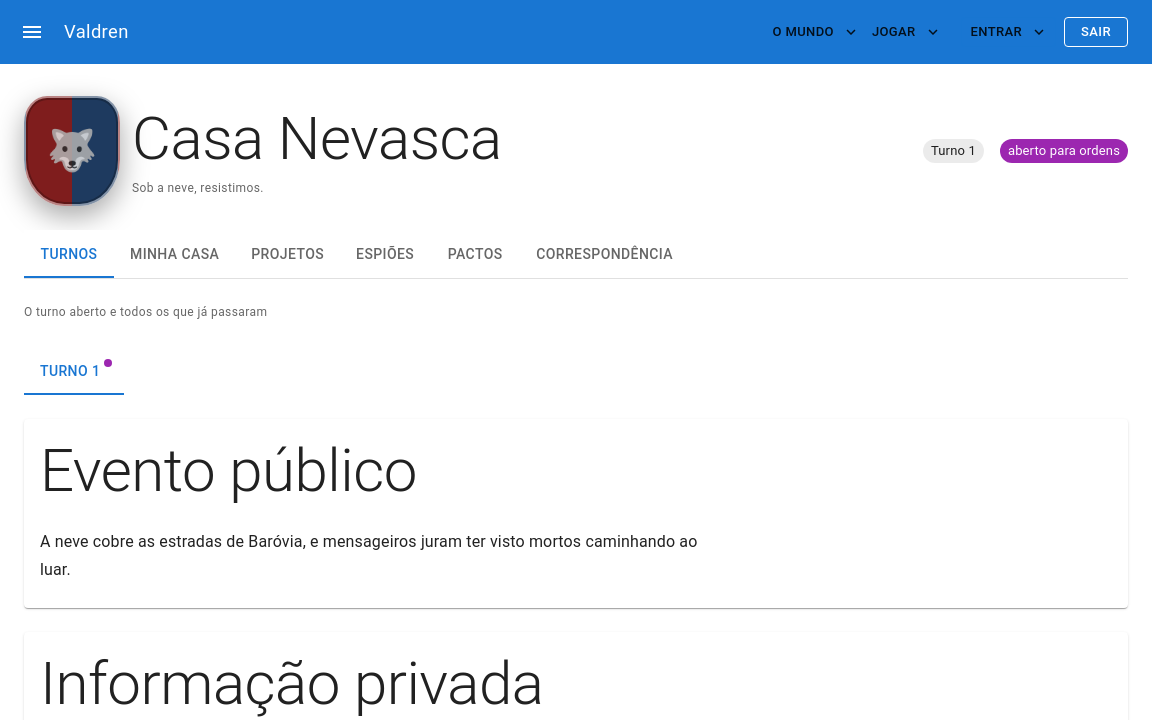
Test: GamePage › desconta da Energia livre o que a Casa já distribuiu
Click the tab "Minha Casa" at (175, 254), box [114,230,235,278]
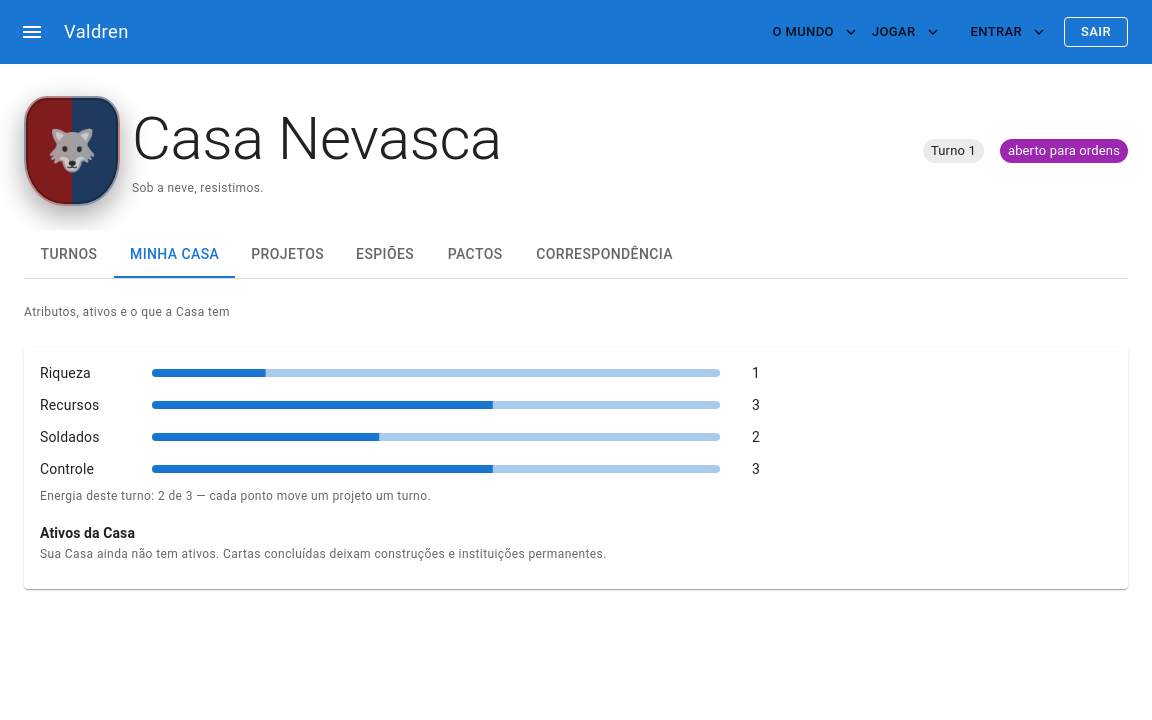
Result: the text "Energia deste turno: 2 de 3" is shown at [40,489,431,503]
